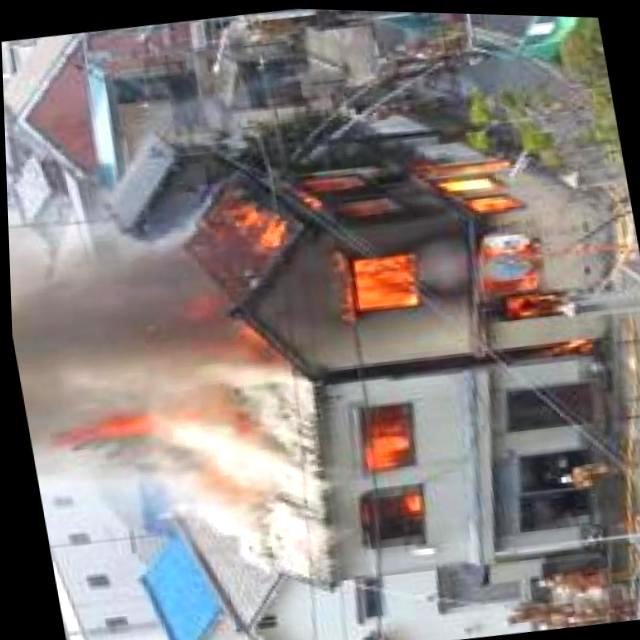fire: (198, 130, 626, 378), (61, 379, 266, 457), (358, 396, 430, 540)
